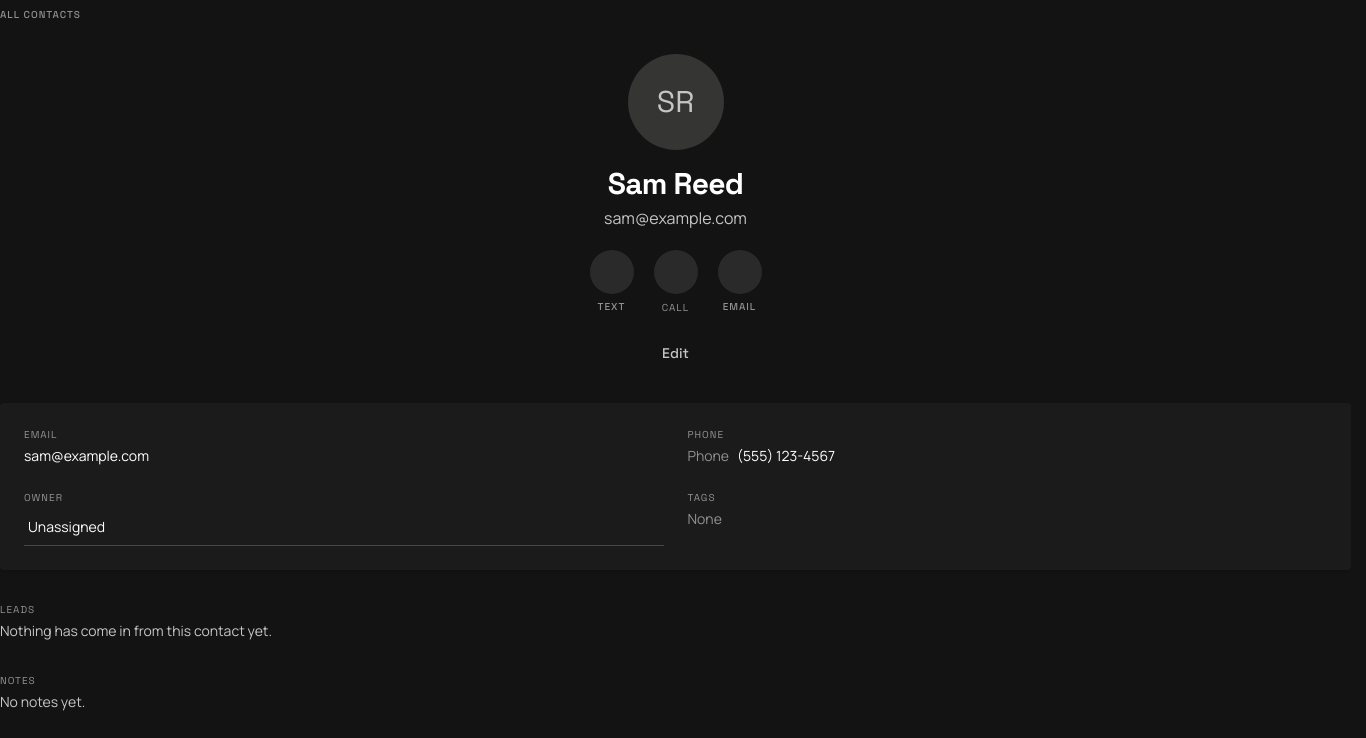
it: ContactDetail › opens the composer on the channel that was picked
This screenshot has width=1366, height=738.
What coordinates should you click on to do the following:
click the button "Text"
I would click on:
 (612, 283)
Its box is [586, 246, 638, 319].
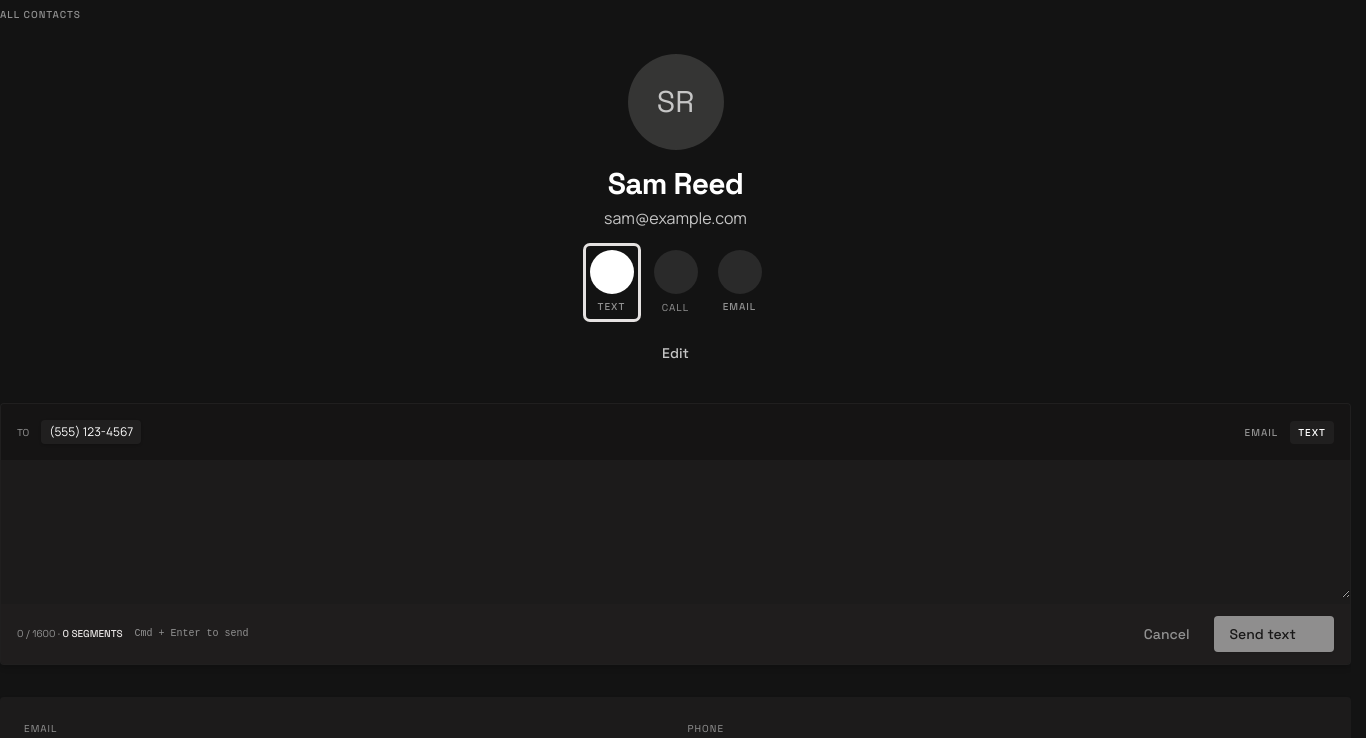
Expected: the text box named "Text message" is shown, [1, 460, 1350, 598]
